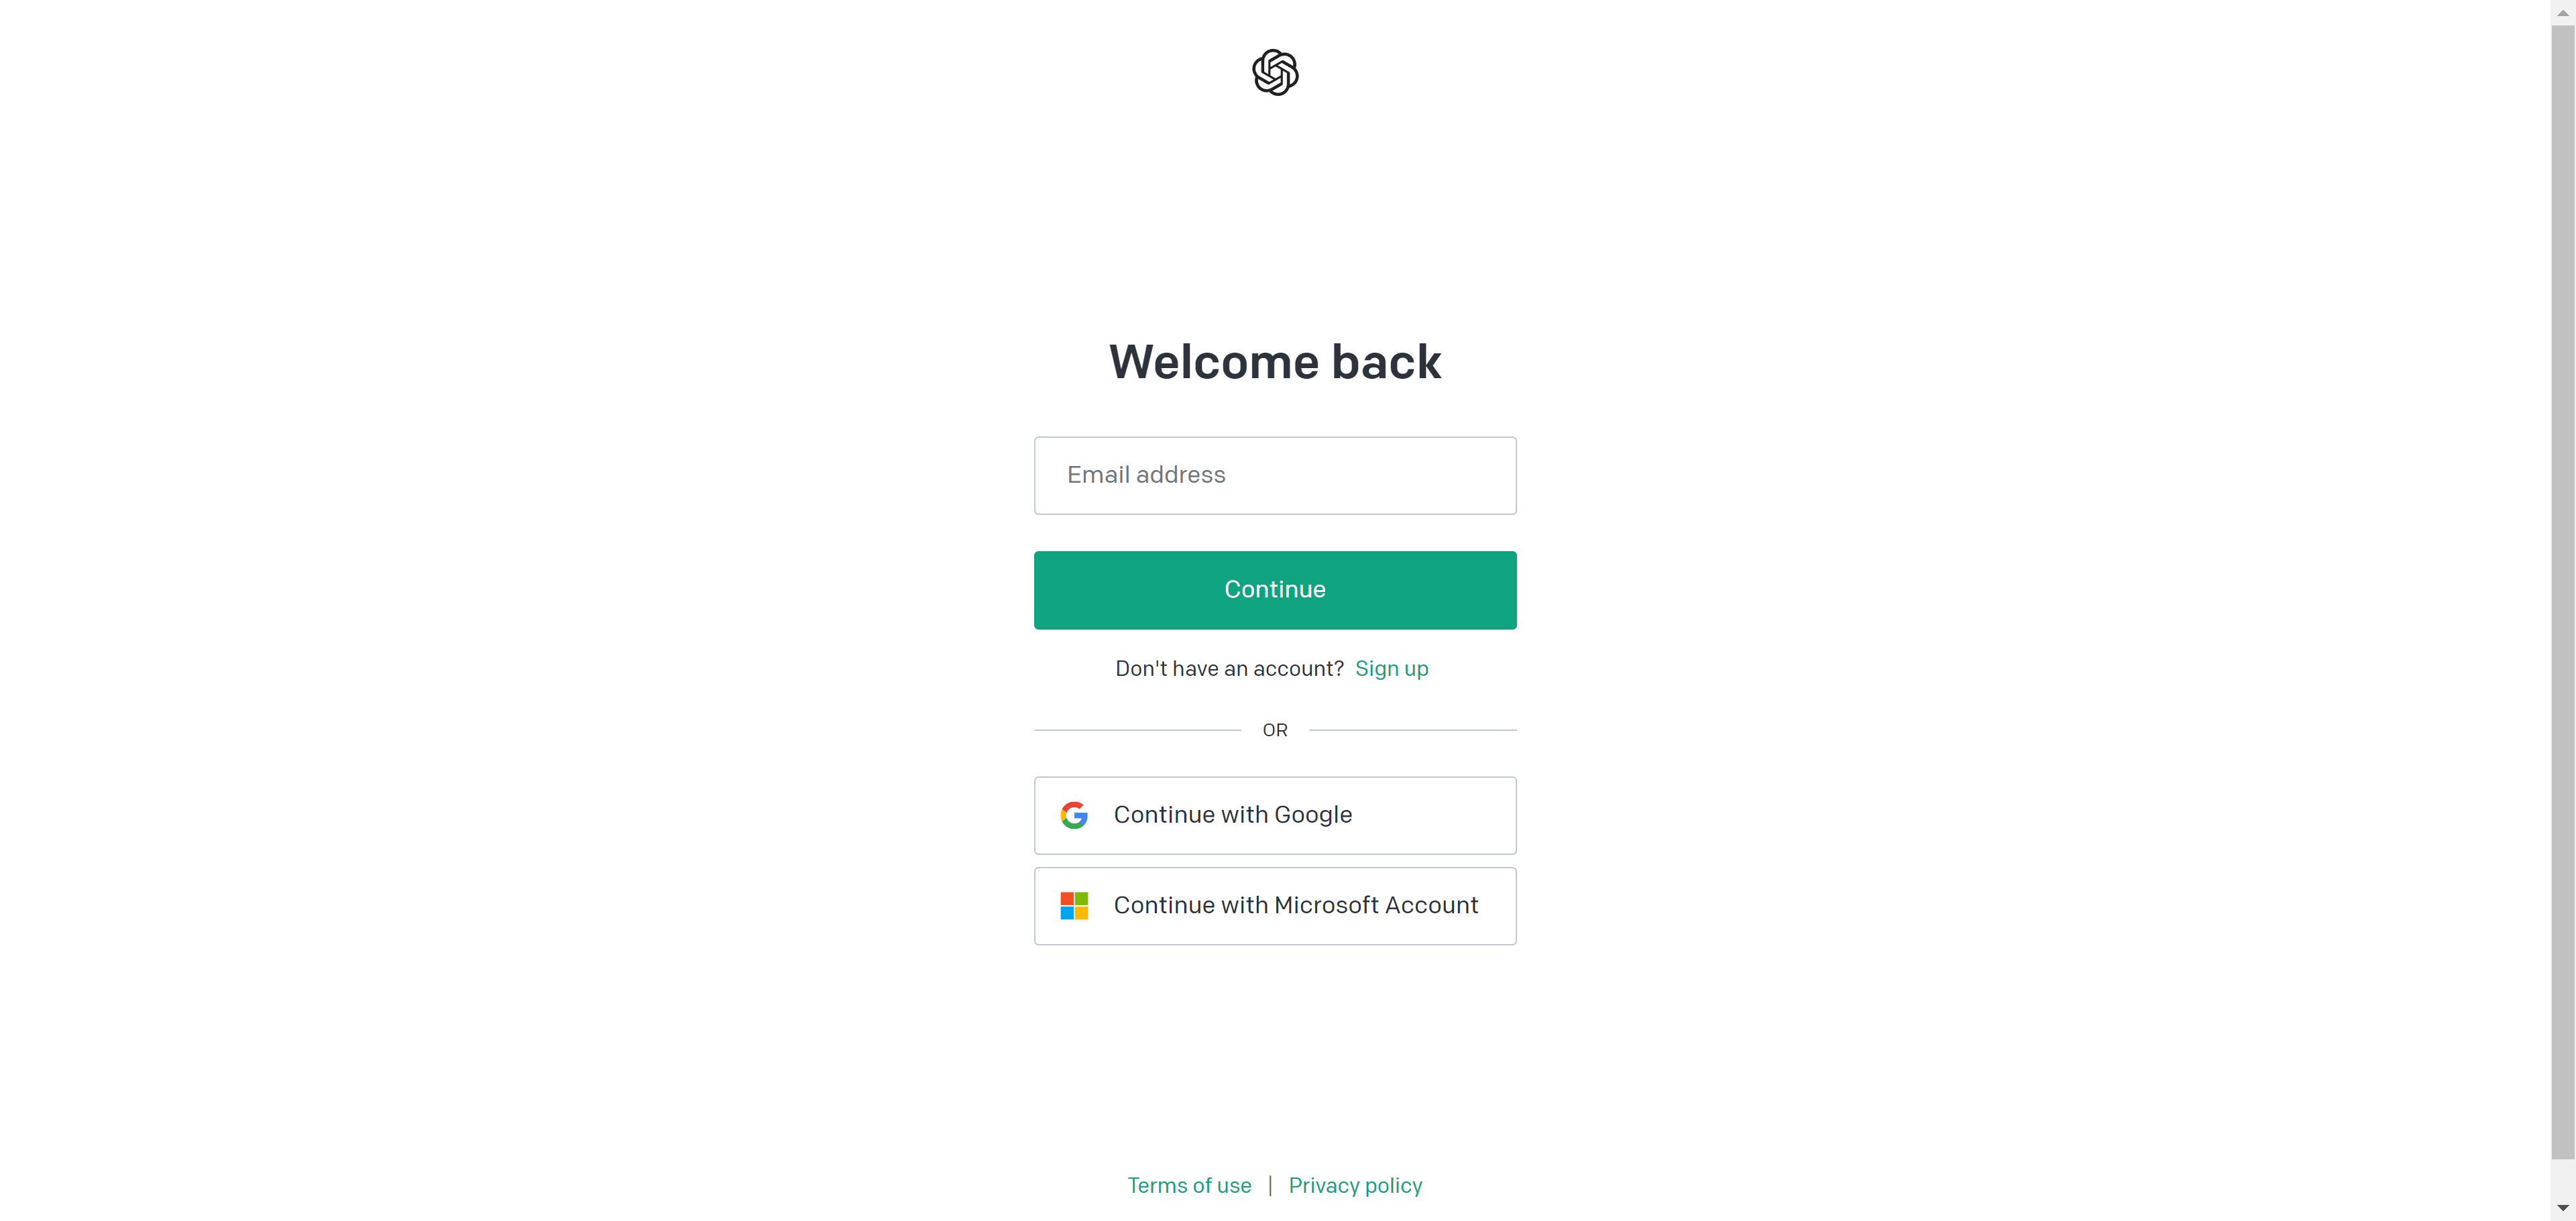login_button: (1035, 552, 1518, 629)
login_form: (1020, 422, 1531, 644)
